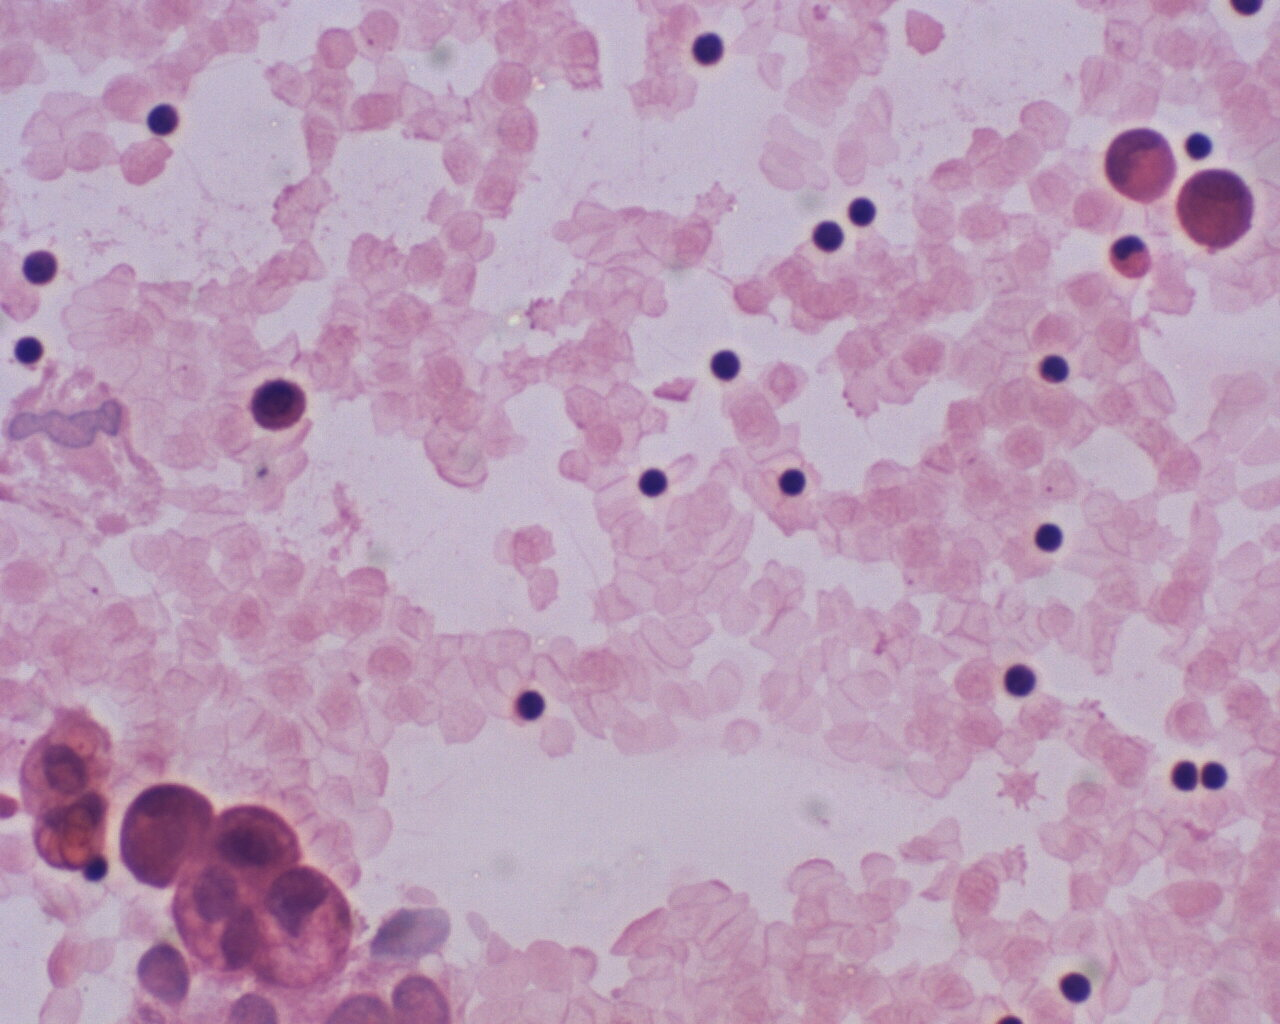ab: (249, 859, 357, 998), (117, 782, 212, 891)
histo: (1106, 118, 1177, 209)
lymph: (993, 656, 1055, 707), (701, 340, 763, 389), (1027, 512, 1073, 567), (806, 214, 854, 258), (504, 685, 548, 732), (635, 462, 678, 507), (141, 96, 185, 138), (1052, 968, 1095, 1009), (772, 464, 812, 506), (8, 328, 47, 370)
meso: (1180, 163, 1259, 251)
neutro: (1109, 231, 1153, 286)
